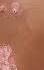plaque psoriasis: (0, 42, 17, 70), (0, 1, 21, 15), (0, 64, 44, 70)
